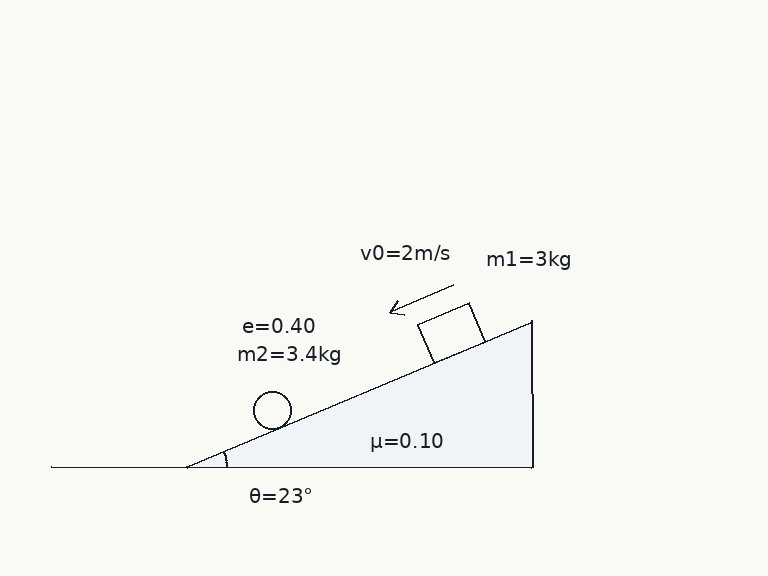ball: (251, 389, 293, 431)
block: (416, 301, 487, 364)
ramp: (185, 319, 532, 469)
